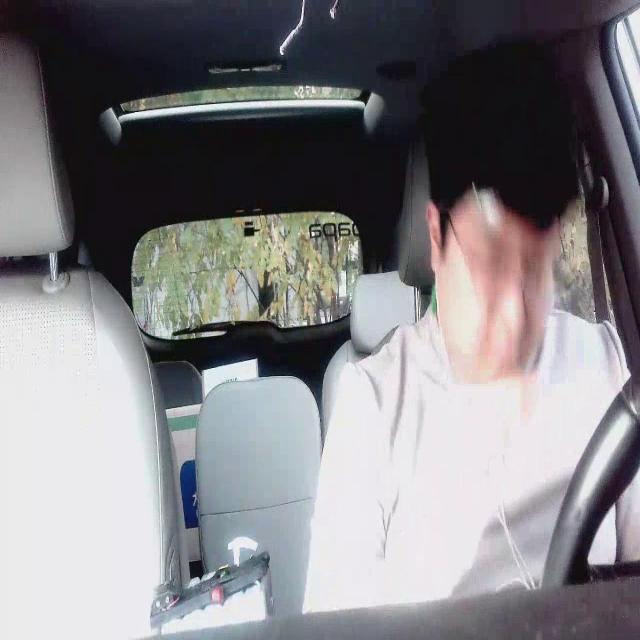Inattentive: (422, 37, 582, 379)
